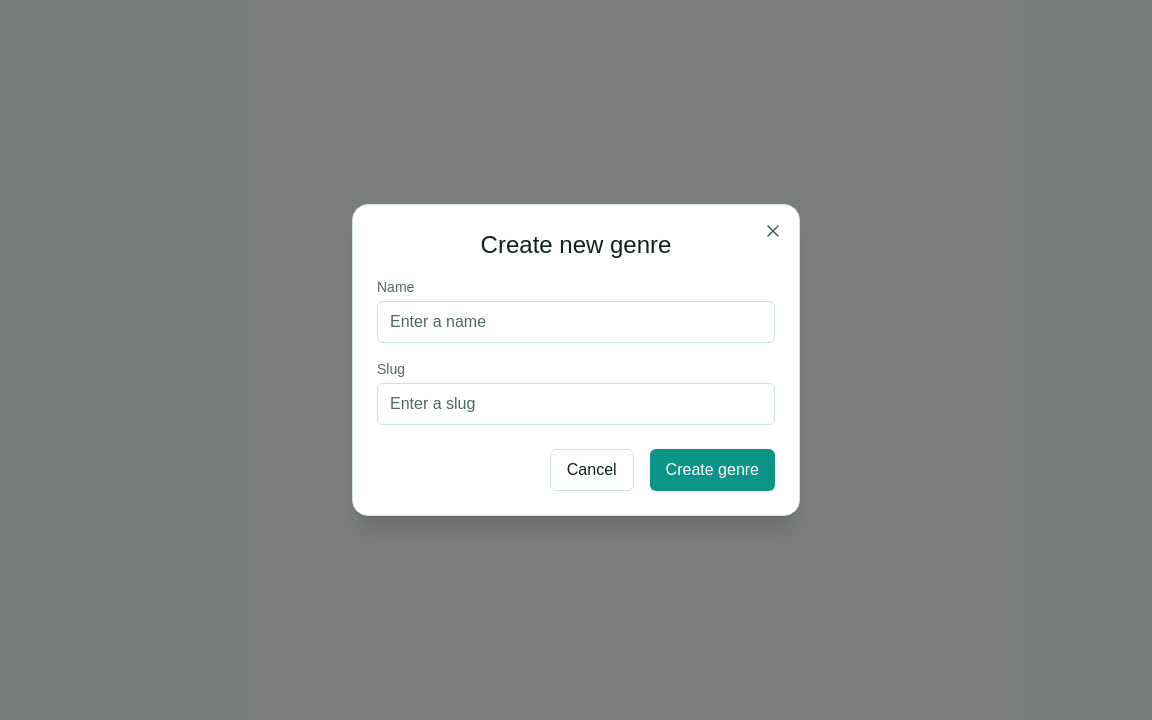
Scenario: GenreForm › shows returned issues and keeps the dialog open on failure
Type "Comedy" into the field labelled "Name" at [576, 322], box left=377, top=301, right=775, bottom=343
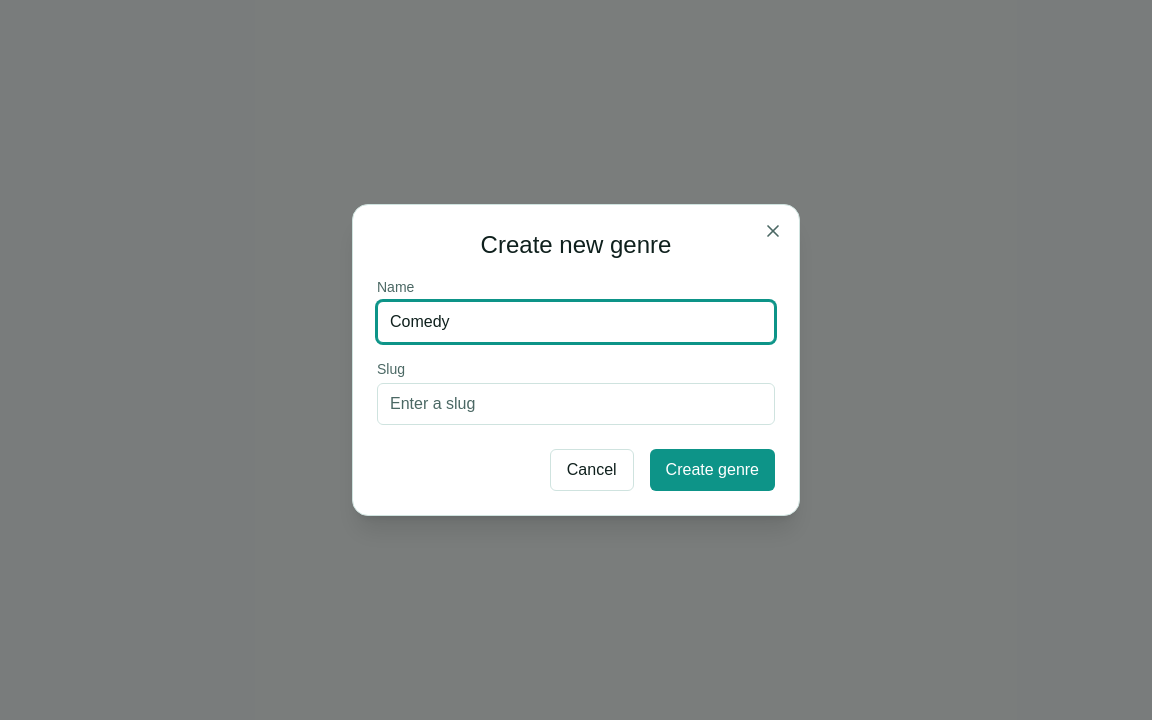
Click the button "Create genre" at [712, 470], box left=650, top=449, right=775, bottom=491
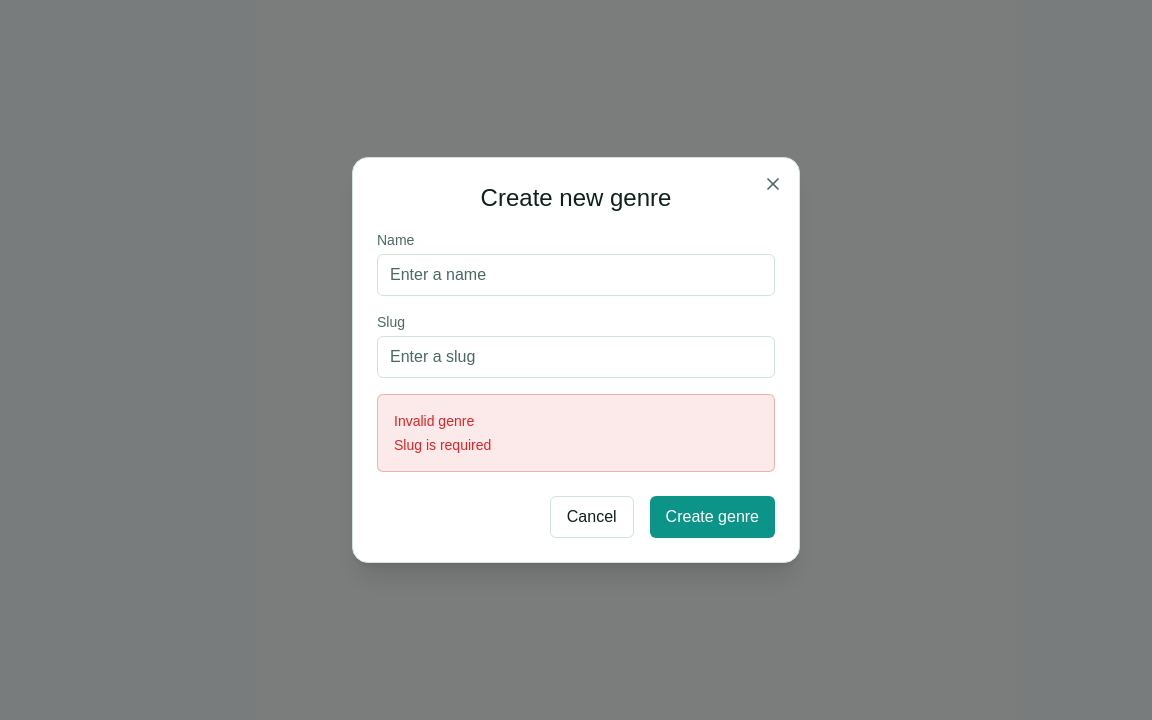
Result: the text "Slug is required" is shown at left=394, top=437, right=491, bottom=453
Result: the text "Invalid genre" is shown at left=394, top=413, right=474, bottom=429
